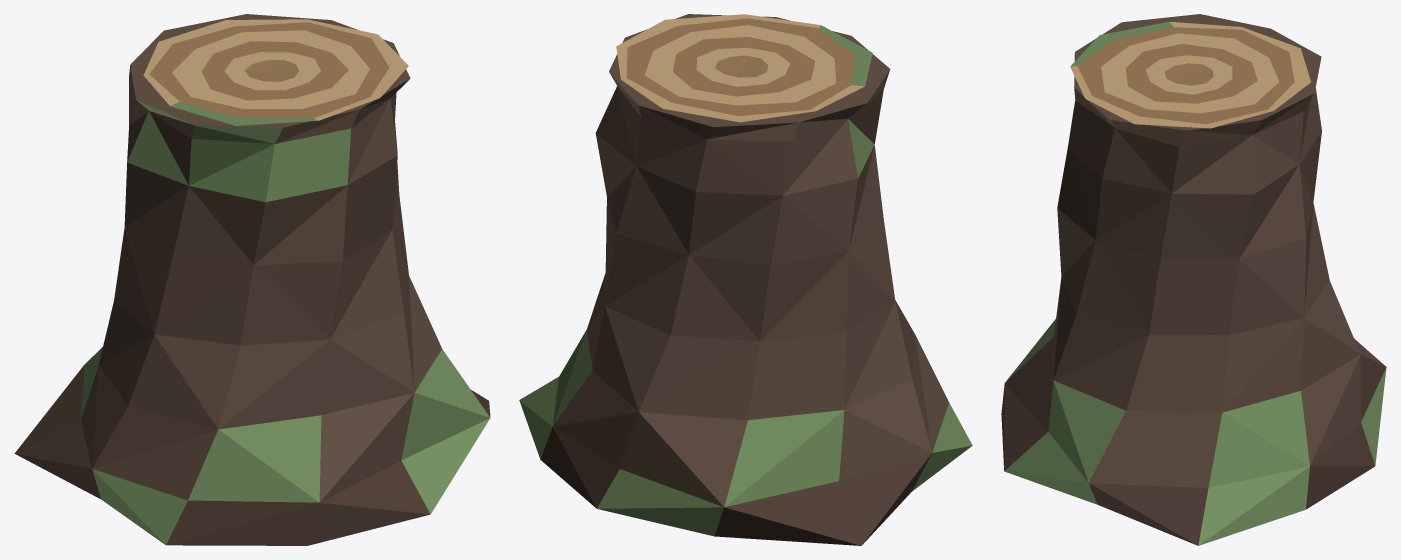
Rendered from stump.glb.
3 views of the same model, side by side, from view 1: azimuth 30°, elevation 25°; view 2: azimuth 150°, elevation 25°; view 3: azimuth 270°, elevation 25° (orthographic). The views are drawn at different scales.
Parts seen in each view (by area): view 1: stump; view 2: stump; view 3: stump.
Part boxes in pixels (x1,y1,x2,y2): stump: (14,14,490,545); stump: (519,14,972,545); stump: (1001,14,1386,545).
Bounding box in the file's own units: 1.11 × 1 × 0.9461.
